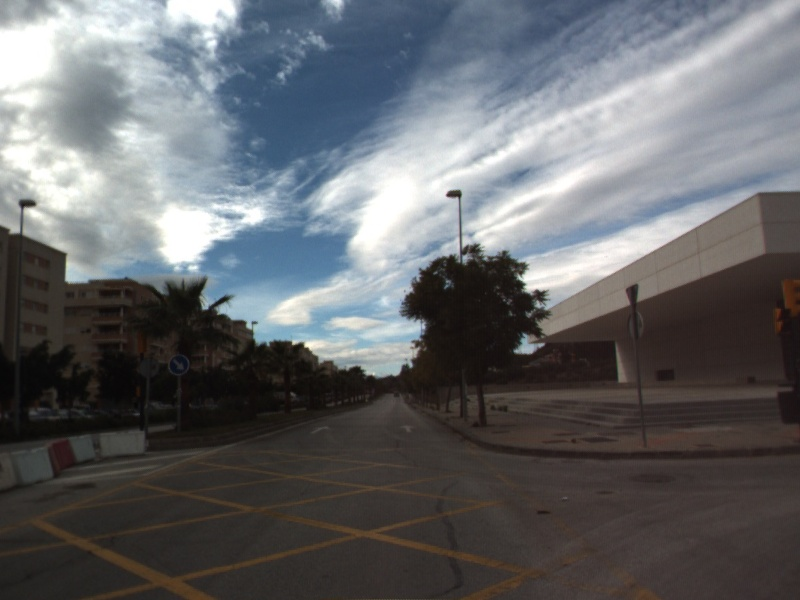STRAIGHT: (309, 423, 332, 435), (398, 422, 418, 434)
